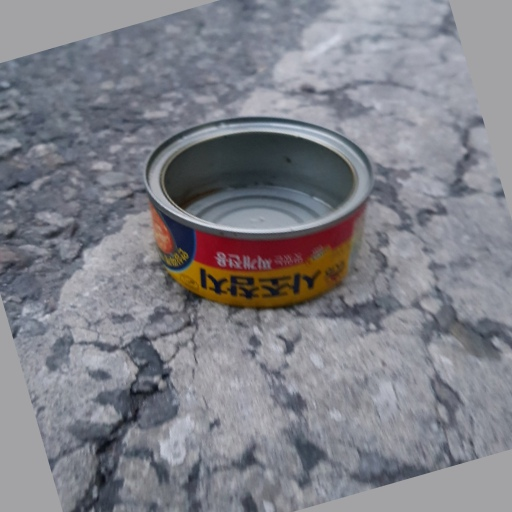Metal_1: (143, 114, 374, 304)
